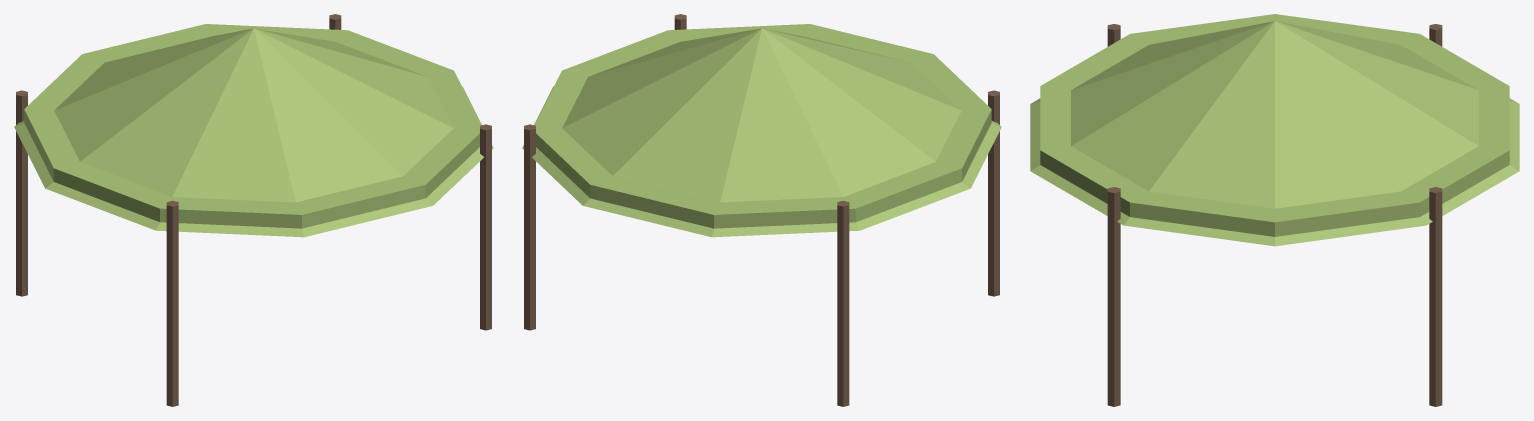
Rendered from haunted_canopyshelter.glb.
The picture shows the model from 3 angles, left to right: view 1: azimuth 30°, elevation 25°; view 2: azimuth 150°, elevation 25°; view 3: azimuth 270°, elevation 25°; orthographic projection. The views are drawn at different scales.
Visible parts, largest first — view 1: Haunted_CanopyShelter; view 2: Haunted_CanopyShelter; view 3: Haunted_CanopyShelter.
Part boxes in pixels (x1,y1,x2,y2): Haunted_CanopyShelter: (14, 14, 493, 406); Haunted_CanopyShelter: (522, 14, 1001, 406); Haunted_CanopyShelter: (1030, 14, 1519, 406).
Size of the model in its own units: 4.8 by 3.1 by 4.57.
